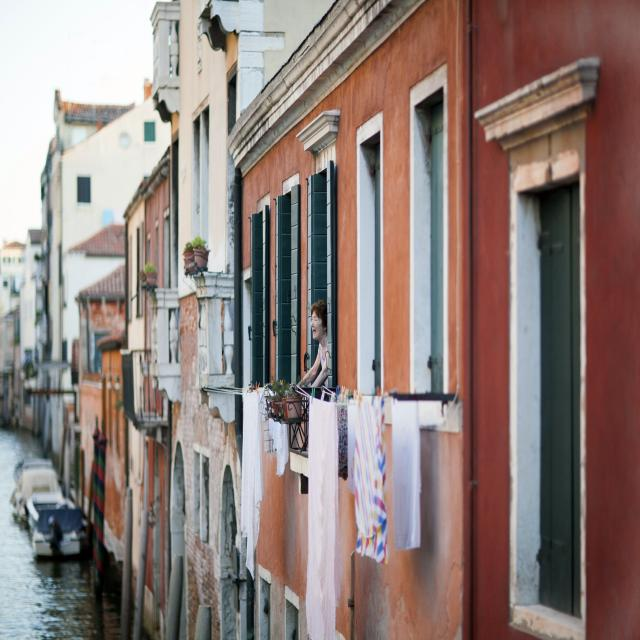adult: (297, 302, 327, 389)
